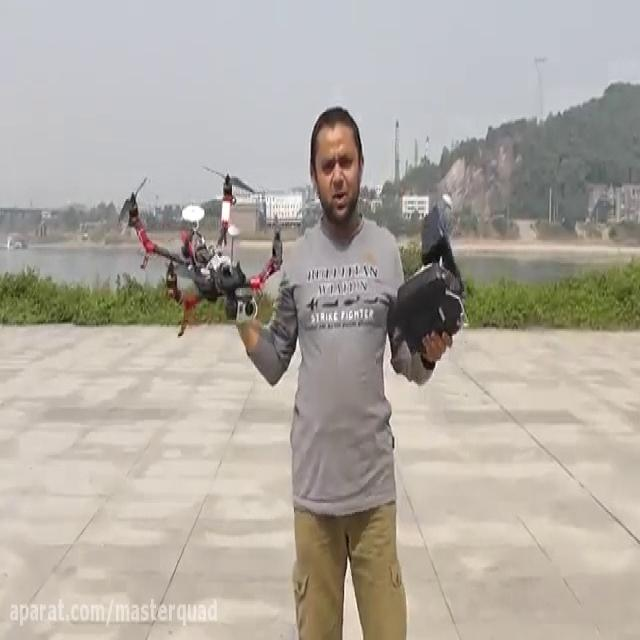drone: (112, 160, 286, 336)
